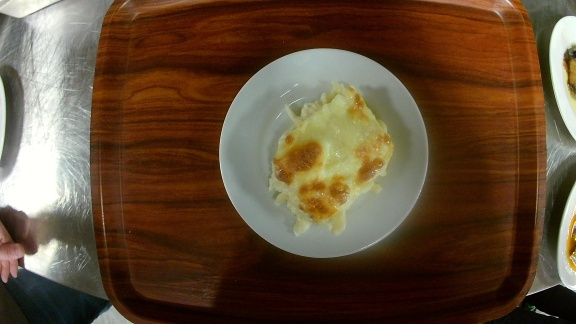firinmakarna: (218, 47, 432, 259)
